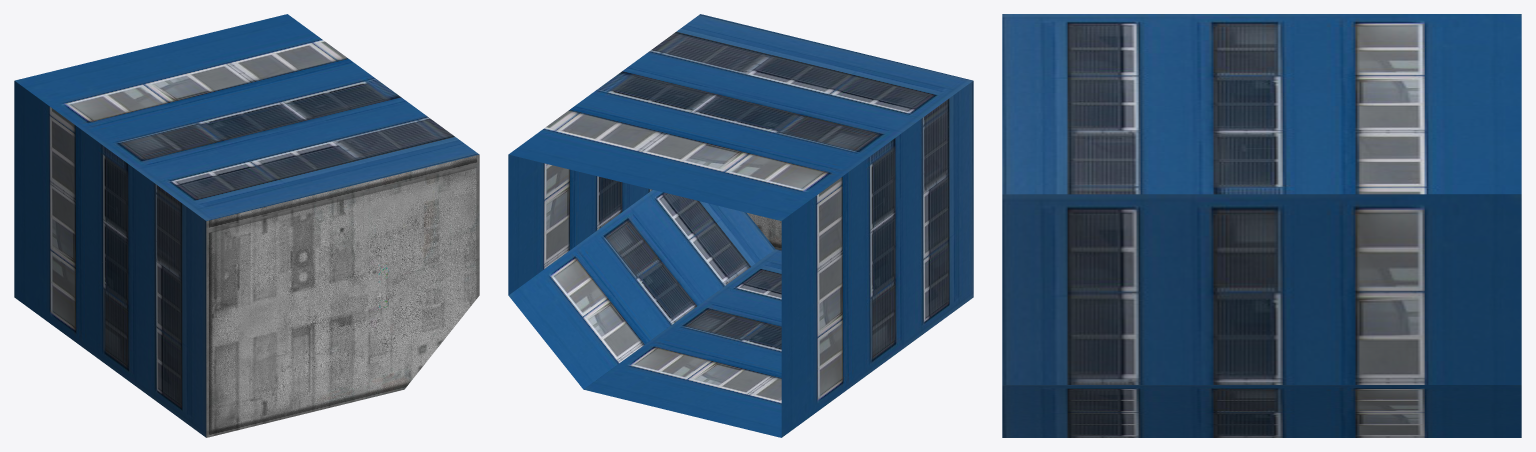
Rendered from building-25.obj.
3 views of the same model, side by side, from view 1: azimuth 30°, elevation 25°; view 2: azimuth 150°, elevation 25°; view 3: azimuth 270°, elevation 25° (orthographic). The views are drawn at different scales.
Size of the model in its own units: 6.59 by 5 by 8.03.
